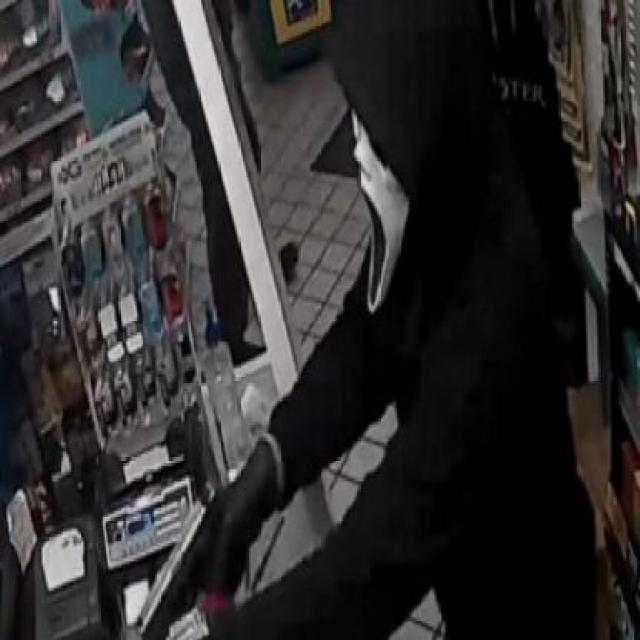Gun: (104, 474, 244, 640)
